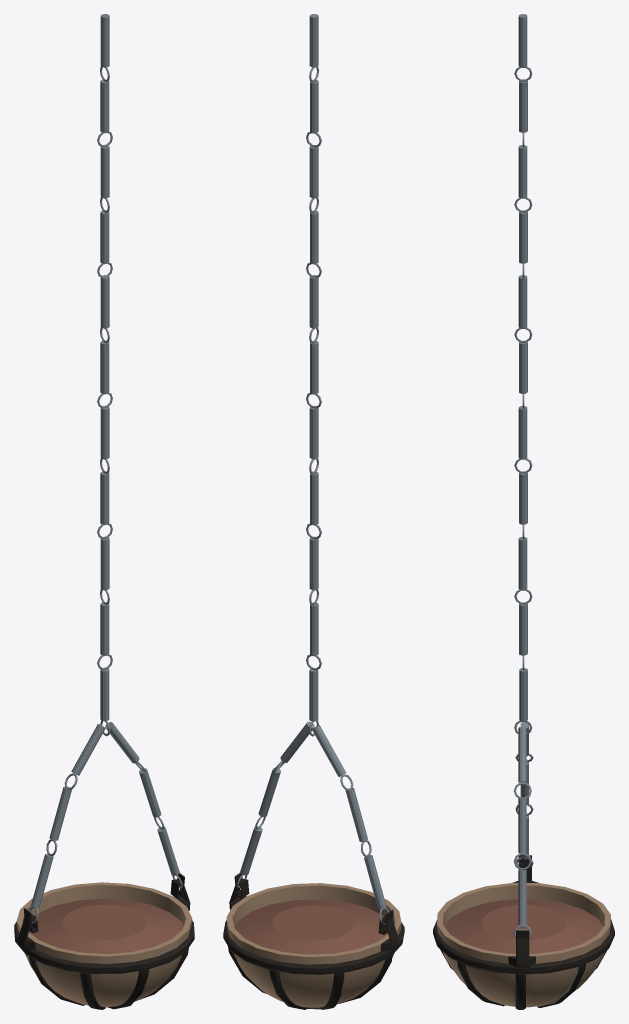
Rendered from Longer Basket.fbx.
3 views of the same model, side by side, from view 1: azimuth 30°, elevation 25°; view 2: azimuth 150°, elevation 25°; view 3: azimuth 270°, elevation 25° (orthographic).
Parts seen in each view (by area): view 1: pCylinder35, pCylinder65, pCylinder67, pCylinder63, pCylinder62, pCylinder64, pCylinder66; view 2: pCylinder35, pCylinder65, pCylinder67, pCylinder63, pCylinder64, pCylinder66, pCylinder62; view 3: pCylinder35, pCylinder65, pCylinder67, pCylinder62, pCylinder63, pCylinder66, pCylinder64.
Part boxes in pixels (x1,y1,x2,y2): pCylinder35: (14,873,194,1009); pCylinder65: (29,668,182,923); pCylinder67: (97,14,112,147); pCylinder63: (97,406,112,539); pCylinder62: (97,275,112,408); pCylinder64: (97,537,112,670); pCylinder66: (97,145,112,277); pCylinder35: (223,872,404,1009); pCylinder65: (236,669,388,924); pCylinder67: (306,14,321,147); pCylinder63: (306,406,321,539); pCylinder64: (306,536,321,670); pCylinder66: (306,145,321,277); pCylinder62: (306,275,321,408); pCylinder35: (433,855,614,1009); pCylinder65: (513,668,533,938); pCylinder67: (514,14,532,147); pCylinder62: (514,275,532,408); pCylinder63: (514,406,532,539); pCylinder66: (514,145,532,278); pCylinder64: (514,537,532,670).
Bounding box in the file's own units: 3.66 × 20.85 × 3.5.
